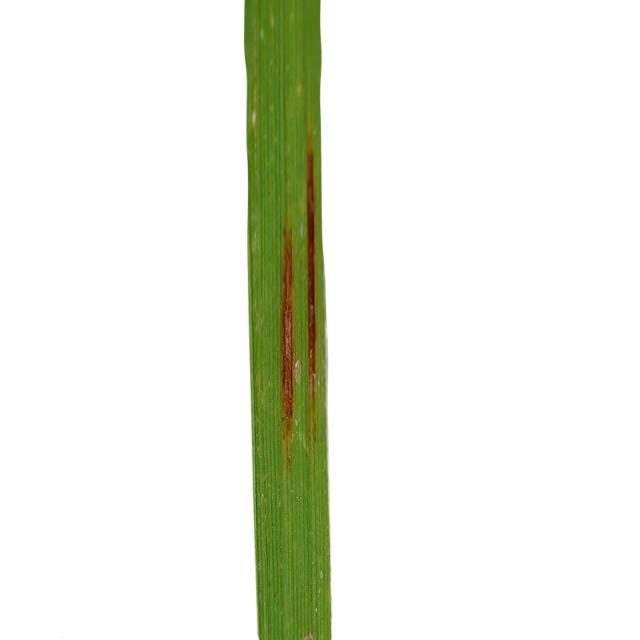Narrow brown: (230, 0, 412, 640)
